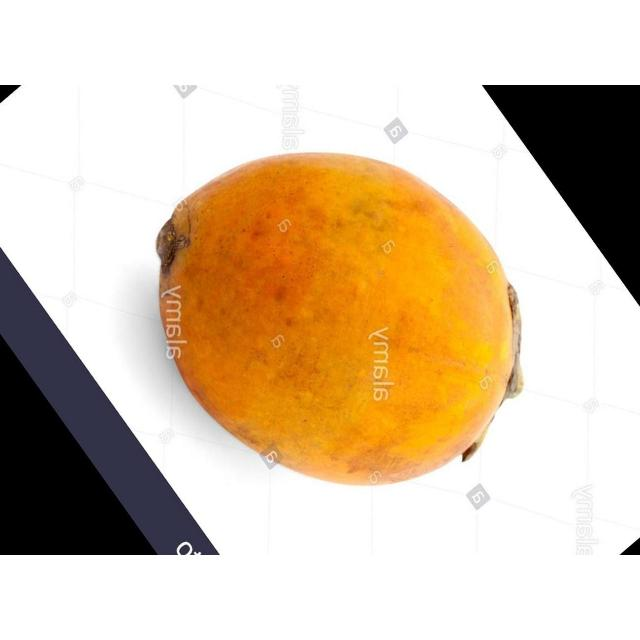good: (154, 152, 520, 488)
